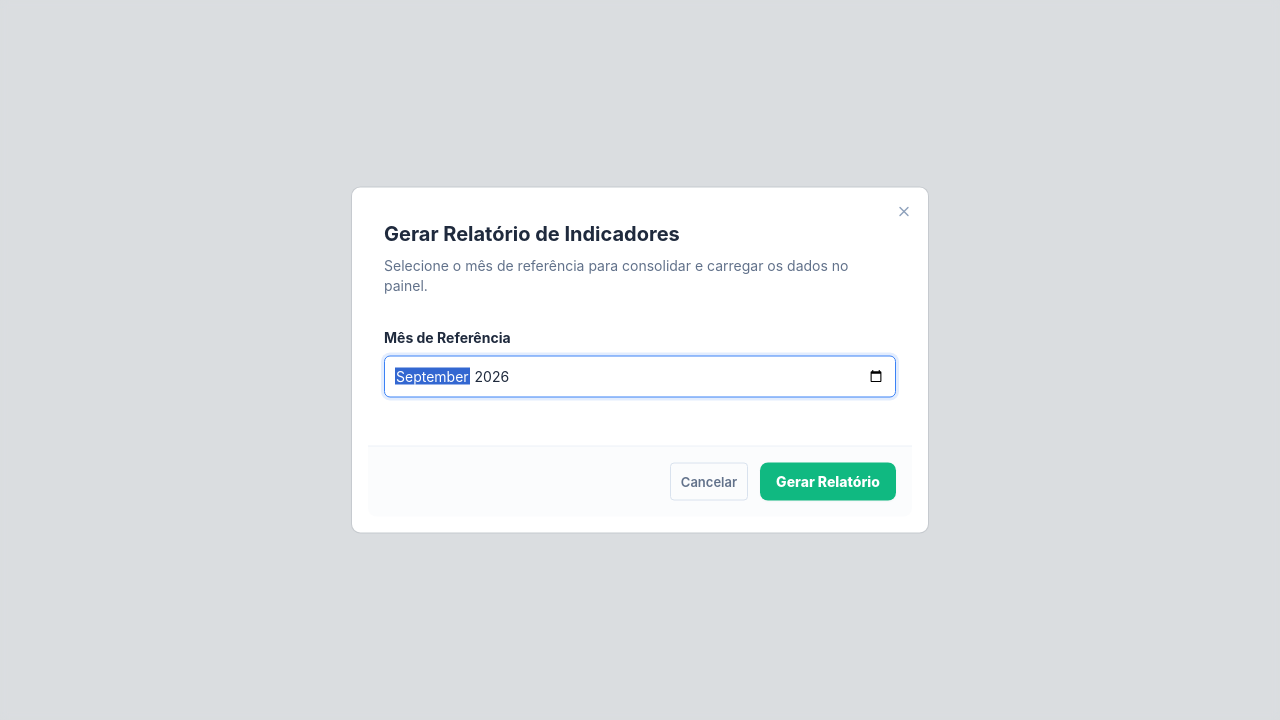
Test case: GenerateReportModal › displays error message when getEsgIndicators fails
Click the button "Gerar Relatório". click: (828, 482)
box: left=760, top=462, right=896, bottom=500
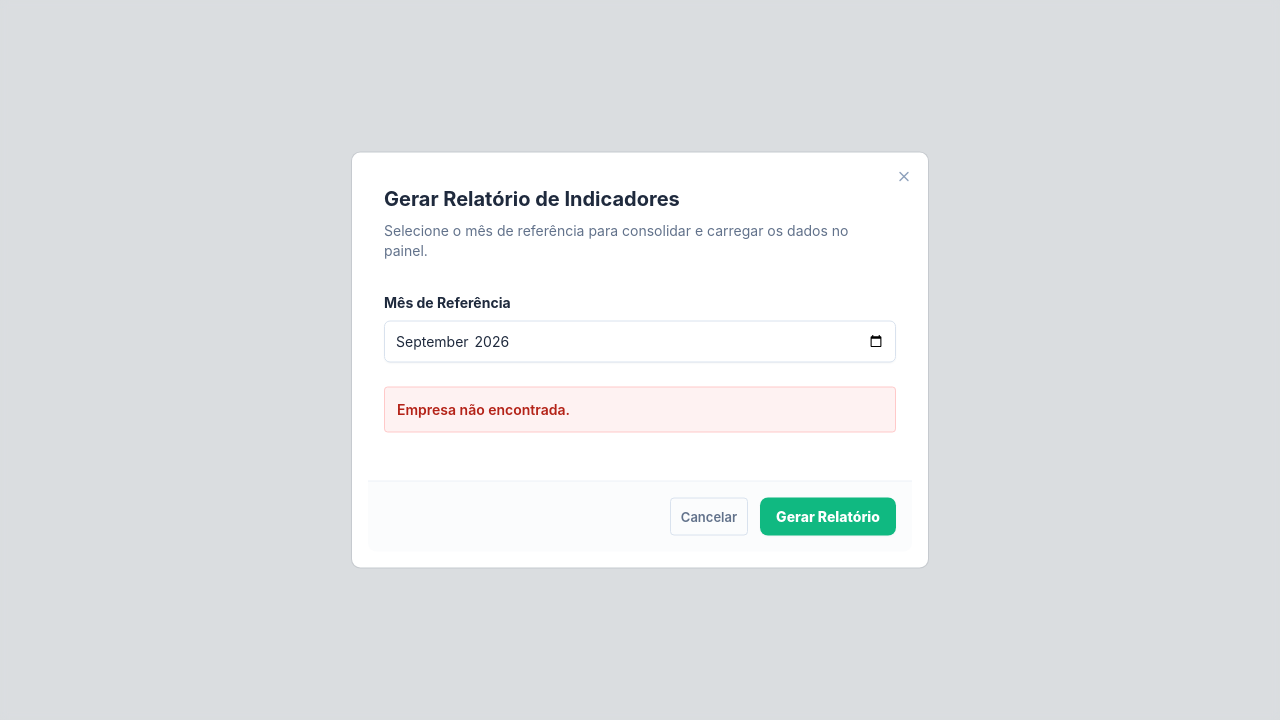
Now the text "Empresa não encontrada." is shown, box left=384, top=386, right=896, bottom=432
